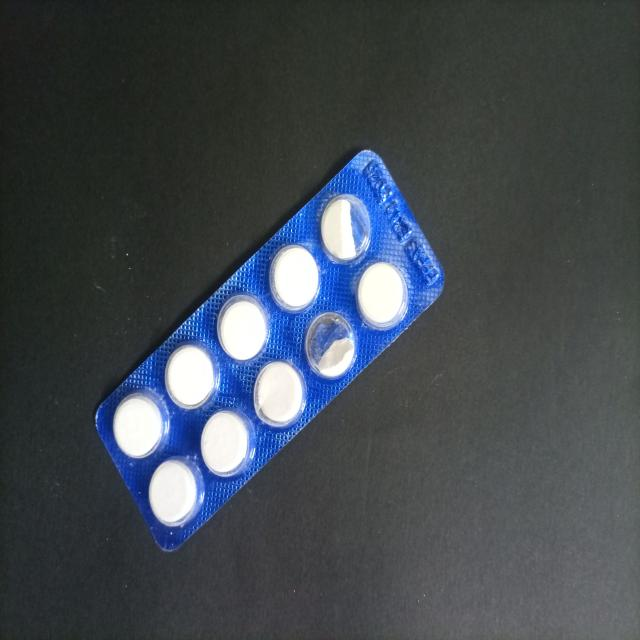defect: (318, 190, 372, 266), (303, 309, 358, 381)
